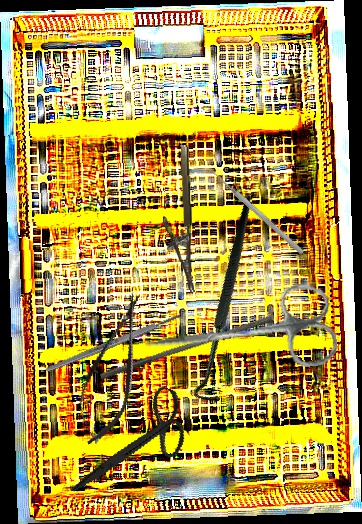Hook Surgical: (127, 196, 333, 411)
Iris Scissors: (140, 280, 340, 389), (70, 368, 199, 522)
Micro Scissor: (66, 285, 159, 453)
Needle Holder: (160, 144, 195, 294)
Pusher: (99, 309, 274, 387), (207, 166, 306, 256)
Scalpel Handle: (44, 312, 182, 374)
